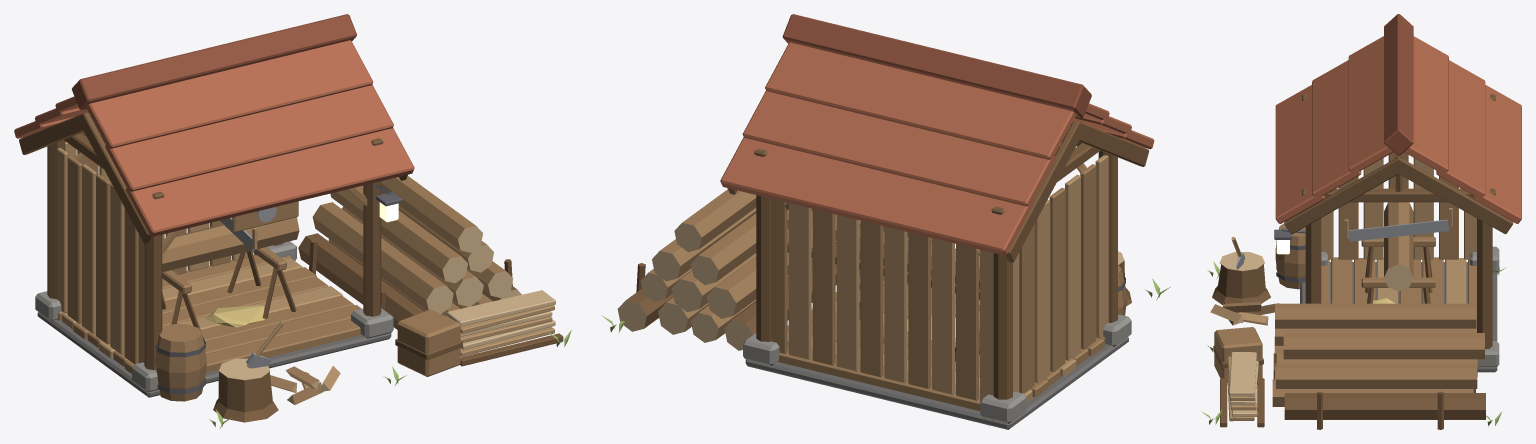
The model's file is lumber_camp_3.glb.
3 views of the same model, side by side, from view 1: azimuth 30°, elevation 25°; view 2: azimuth 150°, elevation 25°; view 3: azimuth 270°, elevation 25° (orthographic). The views are drawn at different scales.
Visible parts, largest first — view 1: LumberCamp; view 2: LumberCamp; view 3: LumberCamp.
Boxes of the visible parts, x1=… form: LumberCamp: x1=14, y1=14, x2=571, y2=428; LumberCamp: x1=601, y1=14, x2=1170, y2=429; LumberCamp: x1=1201, y1=14, x2=1521, y2=429.
Bounding box in the file's own units: 5.38 × 3.69 × 4.32.
